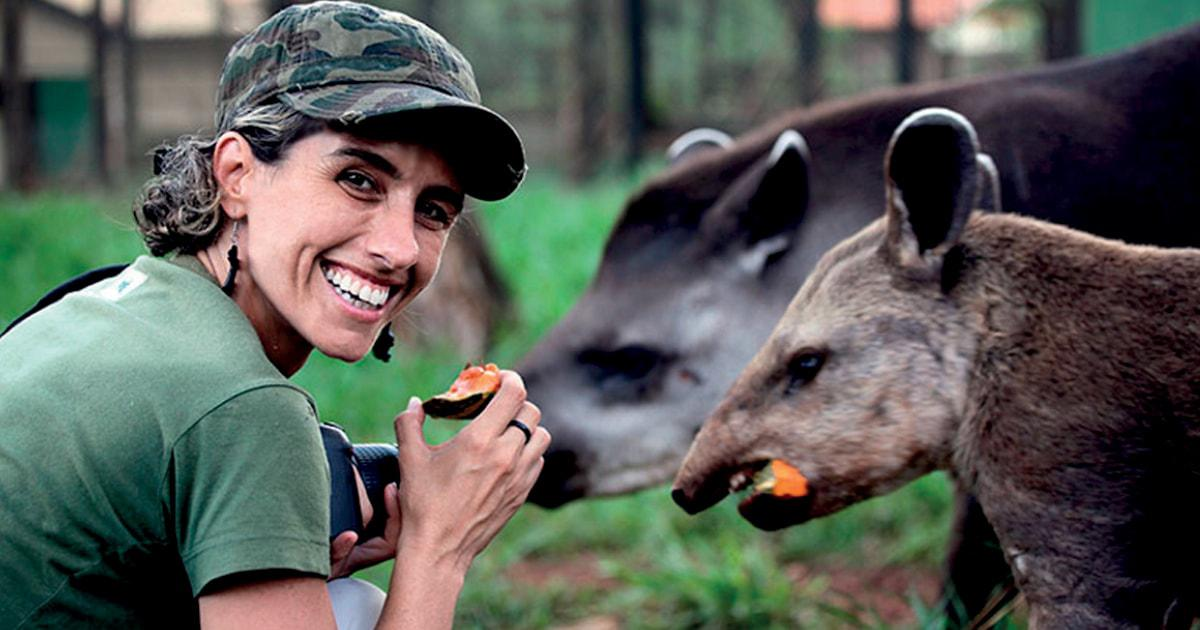Anta: (534, 22, 1184, 614), (678, 105, 1174, 612)
